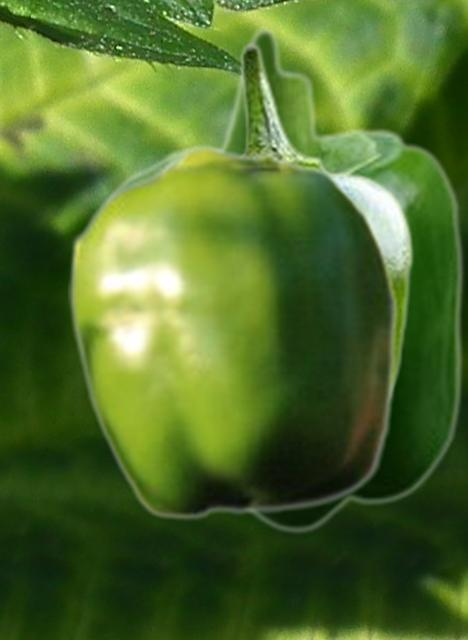bell_pepper: (108, 25, 464, 535), (68, 143, 398, 520), (234, 42, 414, 403)
